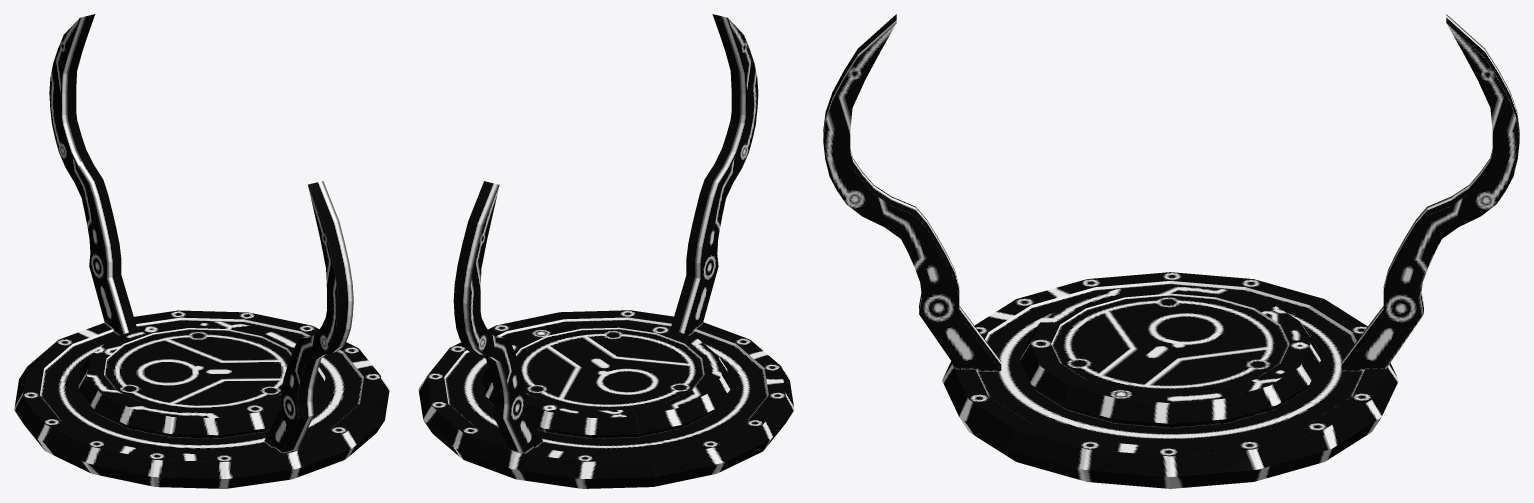
Rendered from Game_Jam_Portal.fbx.
3 views of the same model, side by side, from view 1: azimuth 30°, elevation 25°; view 2: azimuth 150°, elevation 25°; view 3: azimuth 270°, elevation 25° (orthographic). The views are drawn at different scales.
Parts seen in each view (by area): view 1: Cube; view 2: Cube; view 3: Cube.
Part boxes in pixels (<box>): Cube: <box>14,14,389,488</box>; Cube: <box>418,14,794,488</box>; Cube: <box>823,14,1519,488</box>.
Bounding box in the file's own units: 440 × 402 × 671.
